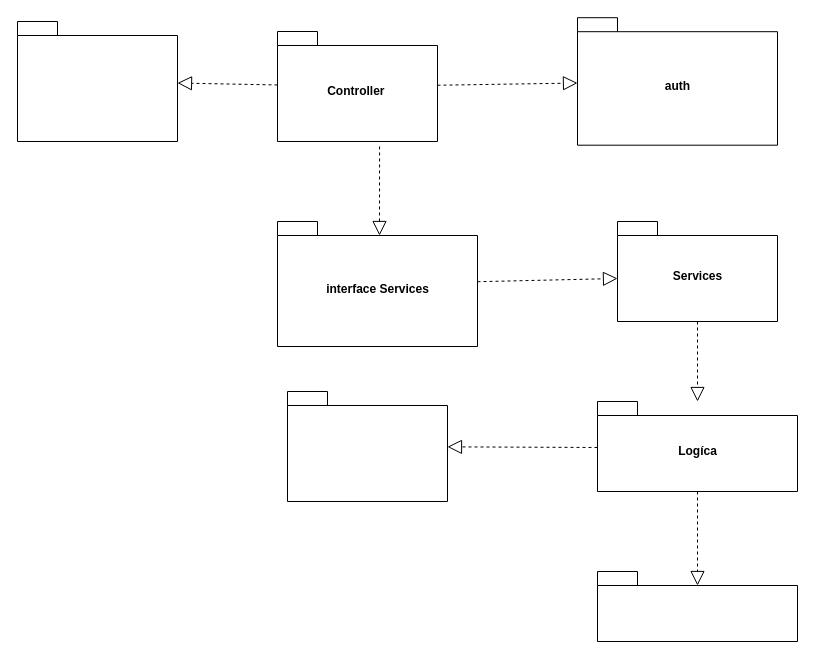
The diagram is 815 pixels wide and 659 high, and some of its shapes have lost their labels. The centre of each missing label's shape, as x and y in pixels:
Config: (97,81)
Models: (367,446)
utils: (697,606)
